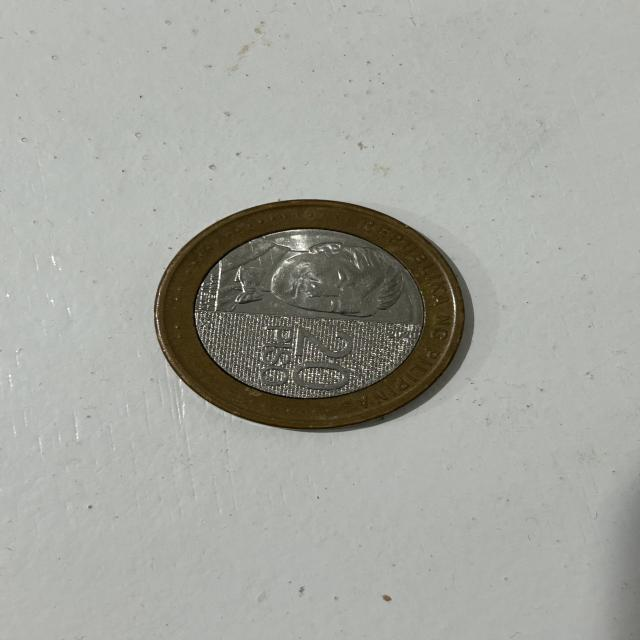20_New_Front: (242, 314, 381, 402)
